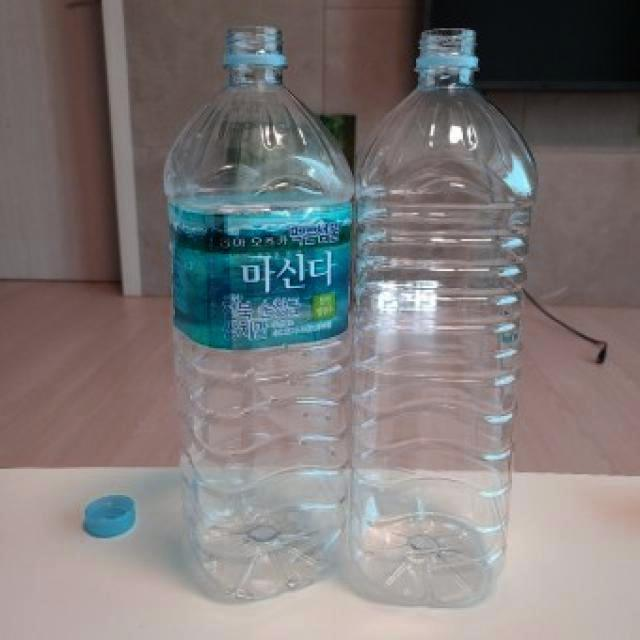bottle: (163, 26, 355, 600), (343, 29, 533, 609)
